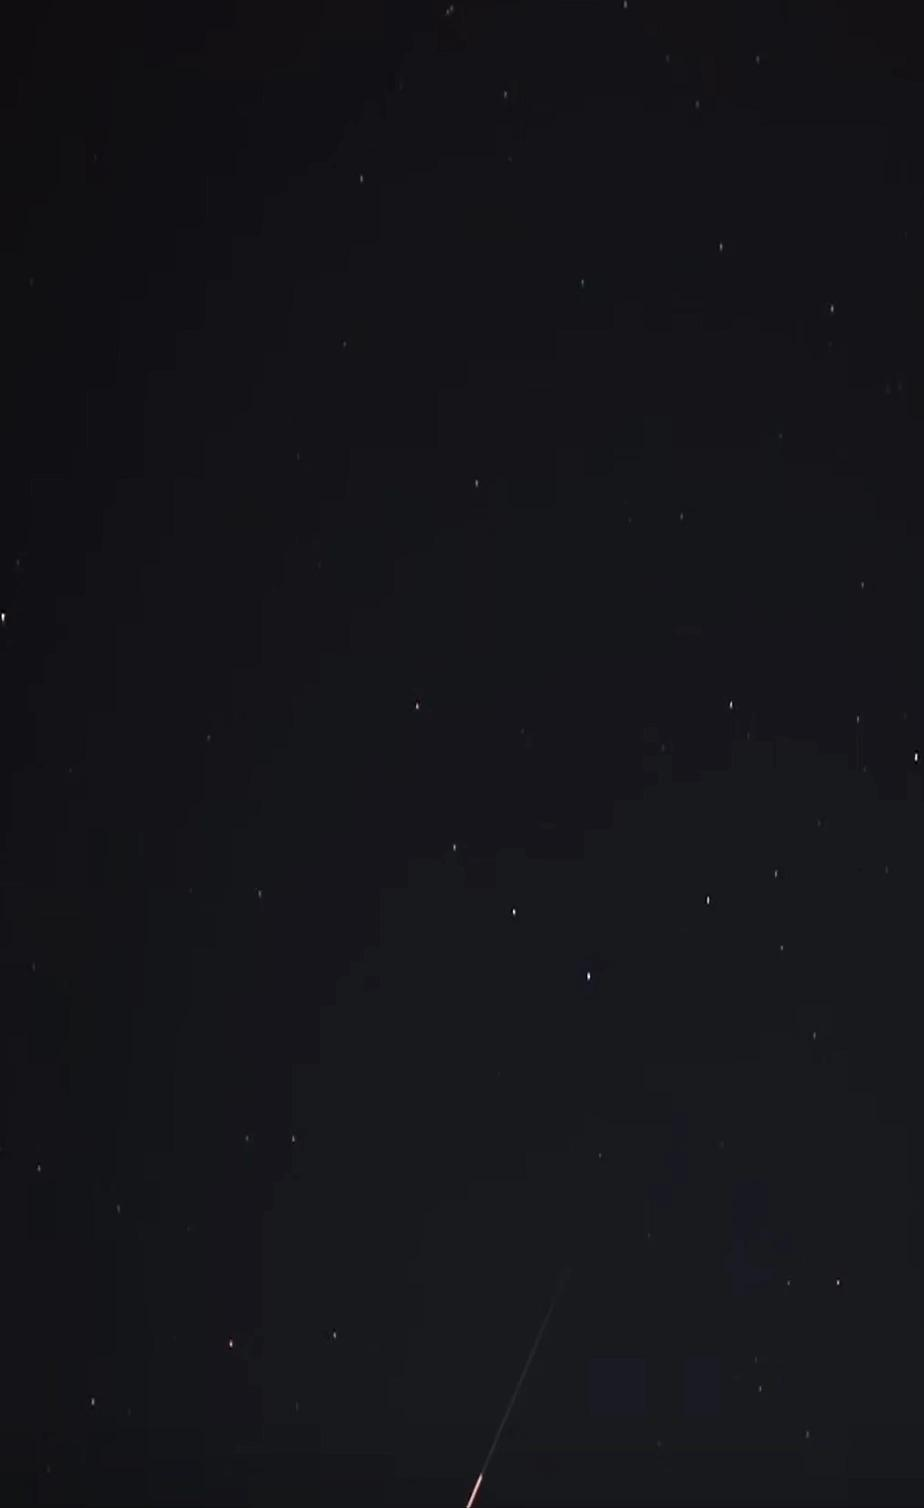meteorite: (437, 1247, 591, 1507)
